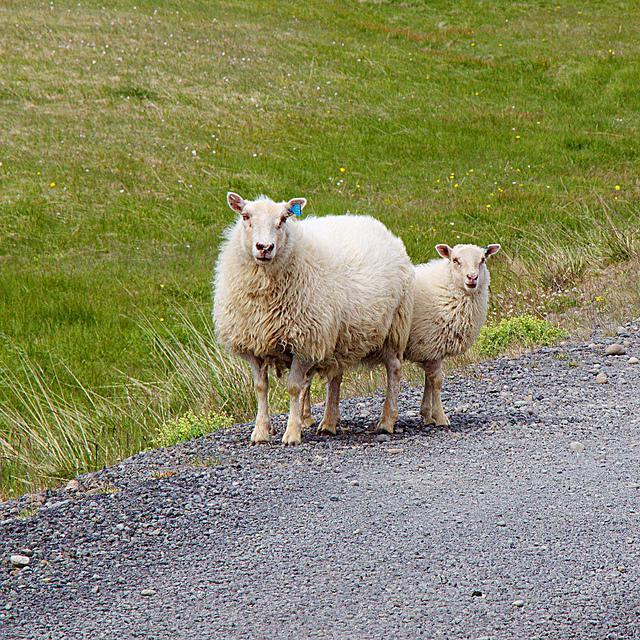Sheep: (209, 185, 416, 447), (380, 239, 503, 429)
